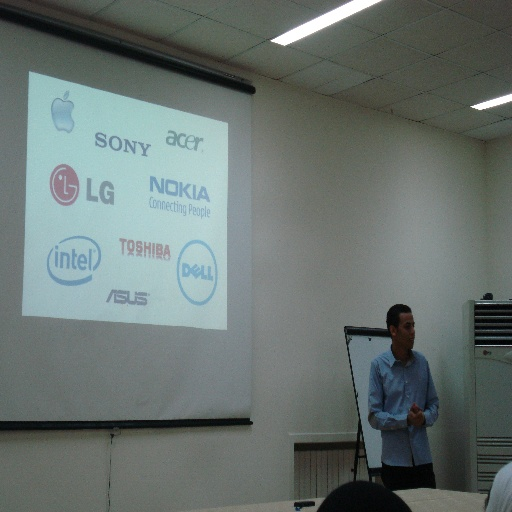hand: (406, 404, 427, 432), (411, 407, 424, 429)
